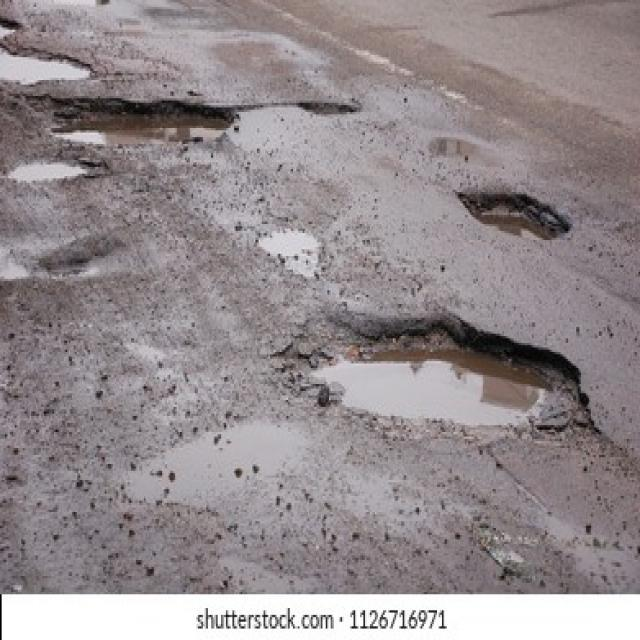Pothole: (272, 304, 596, 434), (34, 92, 236, 148), (455, 188, 573, 245), (0, 12, 95, 82), (3, 153, 92, 185), (298, 98, 358, 115)
